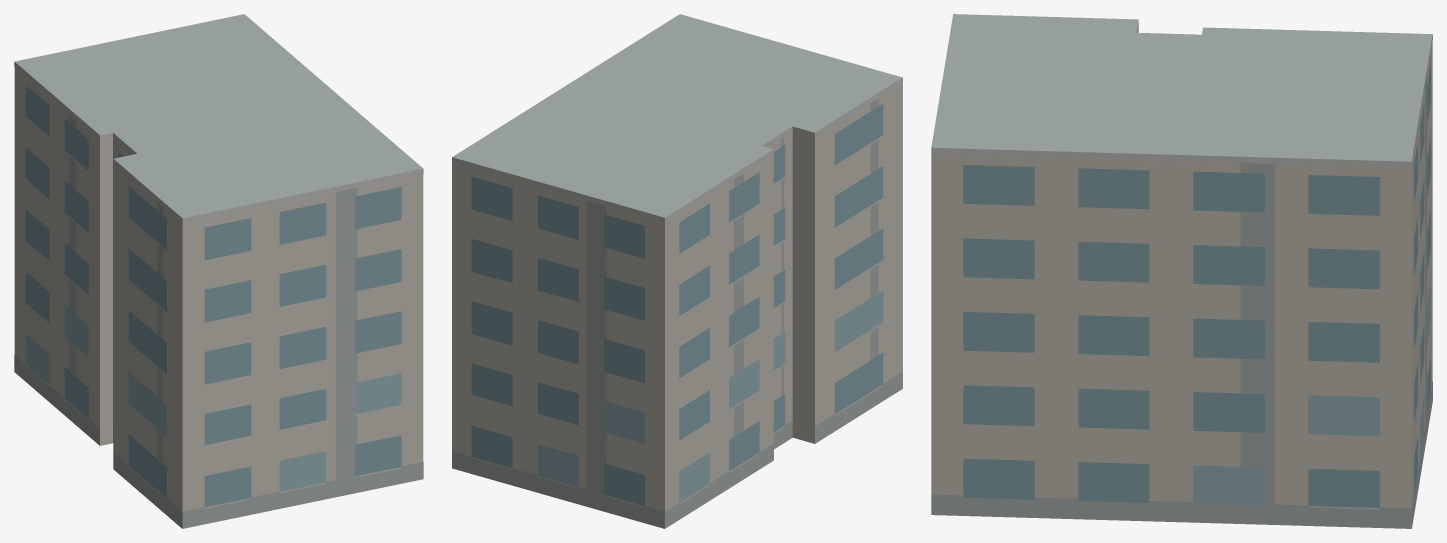
Rendered from survey-upis-32766880.glb.
The picture shows the model from 3 angles, left to right: view 1: azimuth 30°, elevation 25°; view 2: azimuth 150°, elevation 25°; view 3: azimuth 270°, elevation 25°; orthographic projection. The views are drawn at different scales.
Visible parts, largest first — view 1: survey-upis-32766880.tmp; view 2: survey-upis-32766880.tmp; view 3: survey-upis-32766880.tmp.
Part boxes in pixels (bbox=[...]): survey-upis-32766880.tmp: bbox=[14, 14, 423, 528]; survey-upis-32766880.tmp: bbox=[452, 14, 902, 528]; survey-upis-32766880.tmp: bbox=[931, 14, 1432, 528].
Bounding box in the file's own units: 12.17 × 14.1 × 17.46.
